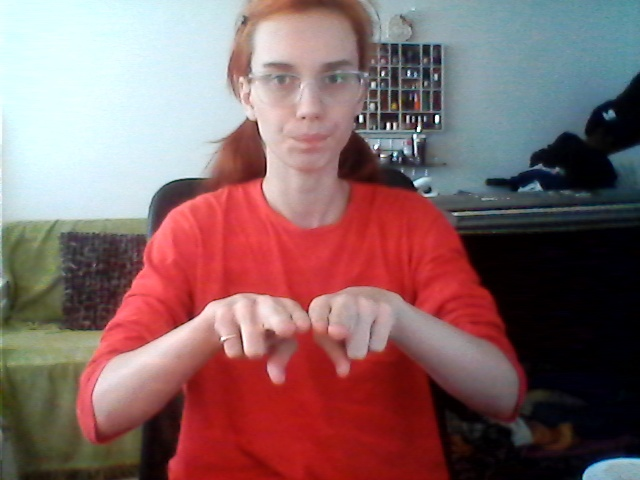brat: (207, 278, 406, 389)
